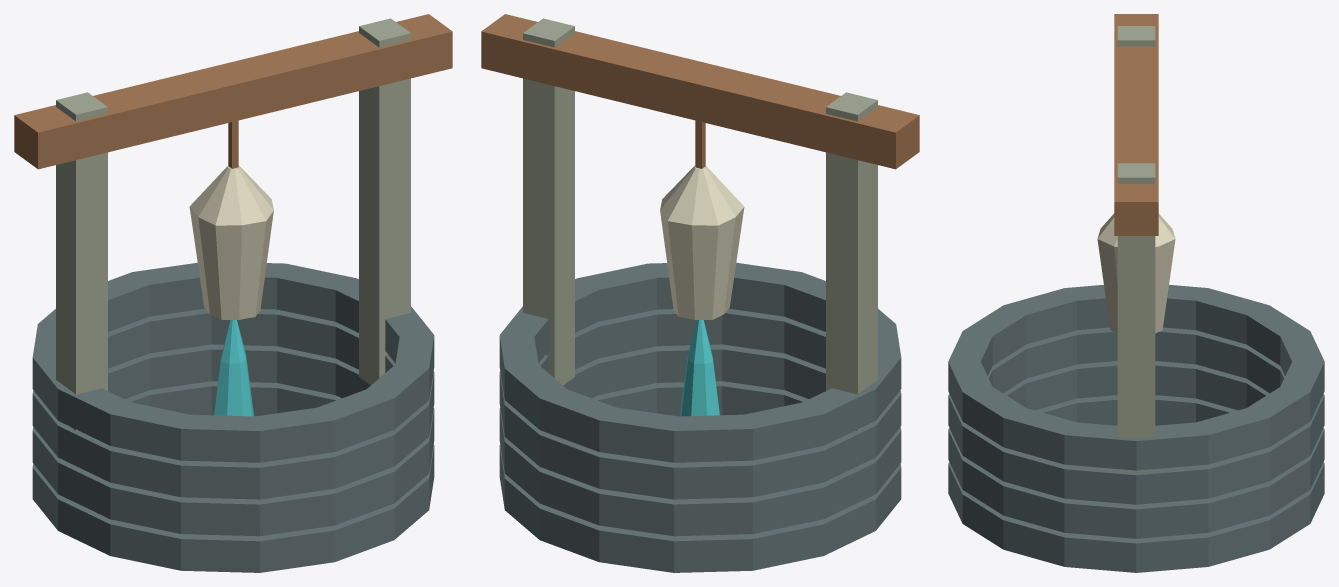
File: listening_well.fbx
3 renders of one model, left to right at view 1: azimuth 30°, elevation 25°; view 2: azimuth 150°, elevation 25°; view 3: azimuth 270°, elevation 25°, orthographic. The views are drawn at different scales.
Parts seen in each view (by area): view 1: well_course_3, well_beam, well_course_2, well_course_1, well_course_0, well_upright_1, well_upright_-1, hanging_listener, source_splinter.001; view 2: well_course_3, well_beam, well_course_2, well_course_1, well_course_0, well_upright_1, well_upright_-1, hanging_listener, source_splinter.001; view 3: well_course_3, well_course_2, well_course_1, well_course_0, well_upright_1, well_beam, hanging_listener, well_upright_-1.
Part boxes in pixels (x1,y1,x2,y2): well_course_3: [32, 262, 434, 462]; well_beam: [14, 14, 452, 169]; well_course_2: [32, 308, 434, 499]; well_course_1: [32, 344, 434, 536]; well_course_0: [32, 381, 434, 572]; well_upright_1: [359, 18, 410, 384]; well_upright_-1: [56, 92, 107, 430]; hanging_listener: [189, 165, 273, 319]; source_splinter.001: [214, 320, 253, 416]; well_course_3: [499, 262, 901, 462]; well_beam: [481, 14, 919, 169]; well_course_2: [499, 308, 901, 499]; well_course_1: [499, 344, 901, 536]; well_course_0: [499, 381, 901, 572]; well_upright_1: [523, 18, 574, 384]; well_upright_-1: [826, 92, 877, 430]; hanging_listener: [660, 165, 744, 319]; source_splinter.001: [680, 320, 719, 416]; well_course_3: [948, 284, 1324, 470]; well_course_2: [948, 327, 1324, 504]; well_course_1: [948, 361, 1324, 538]; well_course_0: [948, 395, 1324, 572]; well_upright_1: [1117, 163, 1155, 471]; well_beam: [1114, 14, 1158, 235]; hanging_listener: [1097, 213, 1175, 333]; well_upright_-1: [1117, 26, 1155, 46].
Bounding box in the file's own units: 260 × 253 × 220.
